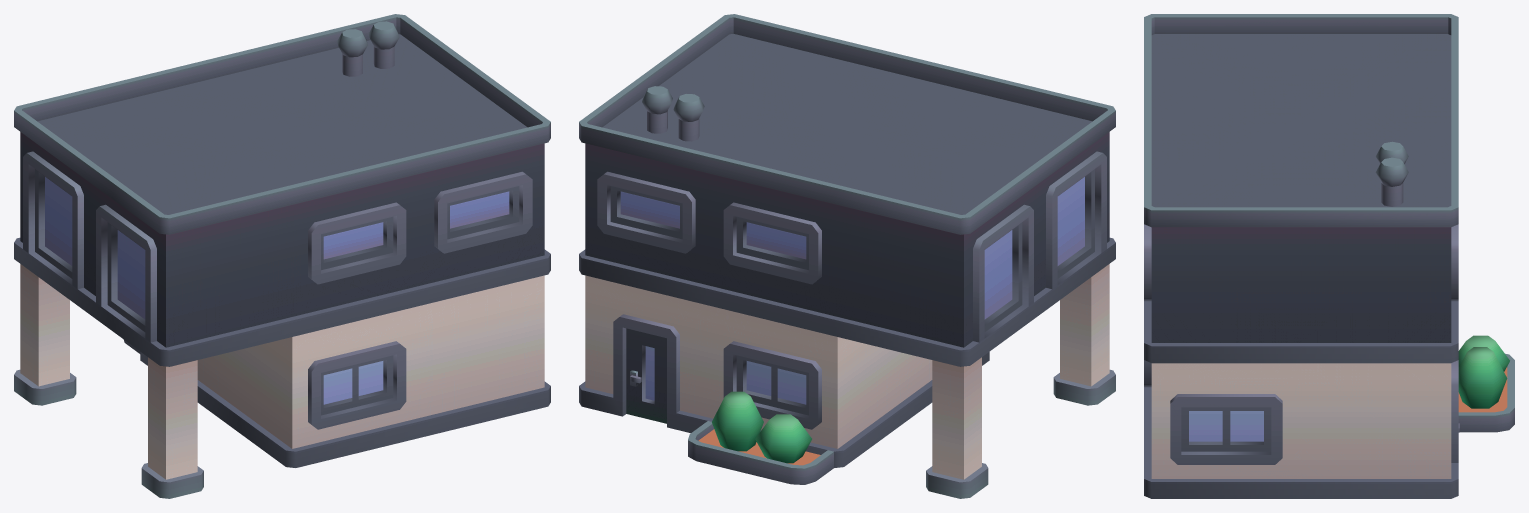
File: sub_building_type_p.glb
3 views of the same model, side by side, from view 1: azimuth 30°, elevation 25°; view 2: azimuth 150°, elevation 25°; view 3: azimuth 270°, elevation 25° (orthographic). The views are drawn at different scales.
Parts seen in each view (by area): view 1: building-type-p; view 2: building-type-p; view 3: building-type-p.
Boxes of the visible parts, x1,y1,x2,y2 form: building-type-p: (14,14,550,498); building-type-p: (579,14,1115,498); building-type-p: (1144,14,1514,498).
Bounding box in the file's own units: 1.24 × 0.918 × 0.99.
Materials: 1 (1 with a texture image).
